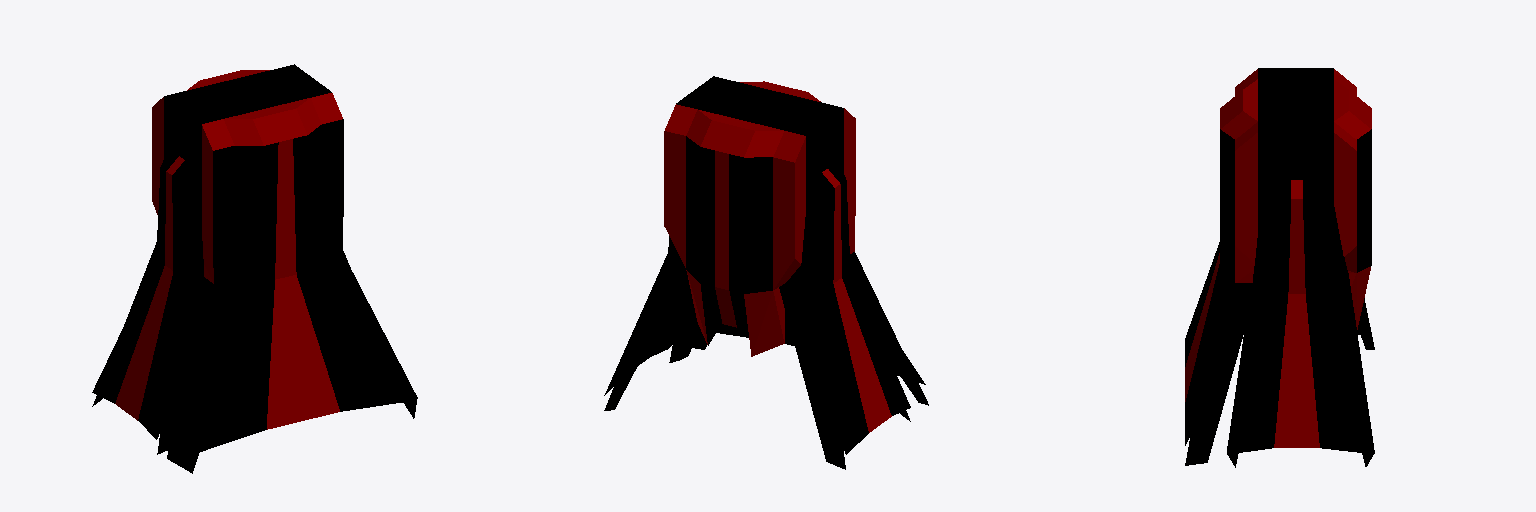
3 views of the same model, side by side, from view 1: azimuth 30°, elevation 25°; view 2: azimuth 150°, elevation 25°; view 3: azimuth 270°, elevation 25° (orthographic).
Size of the model in its own units: 3.84 by 4.57 by 2.52.
1 materials, 1 textured.